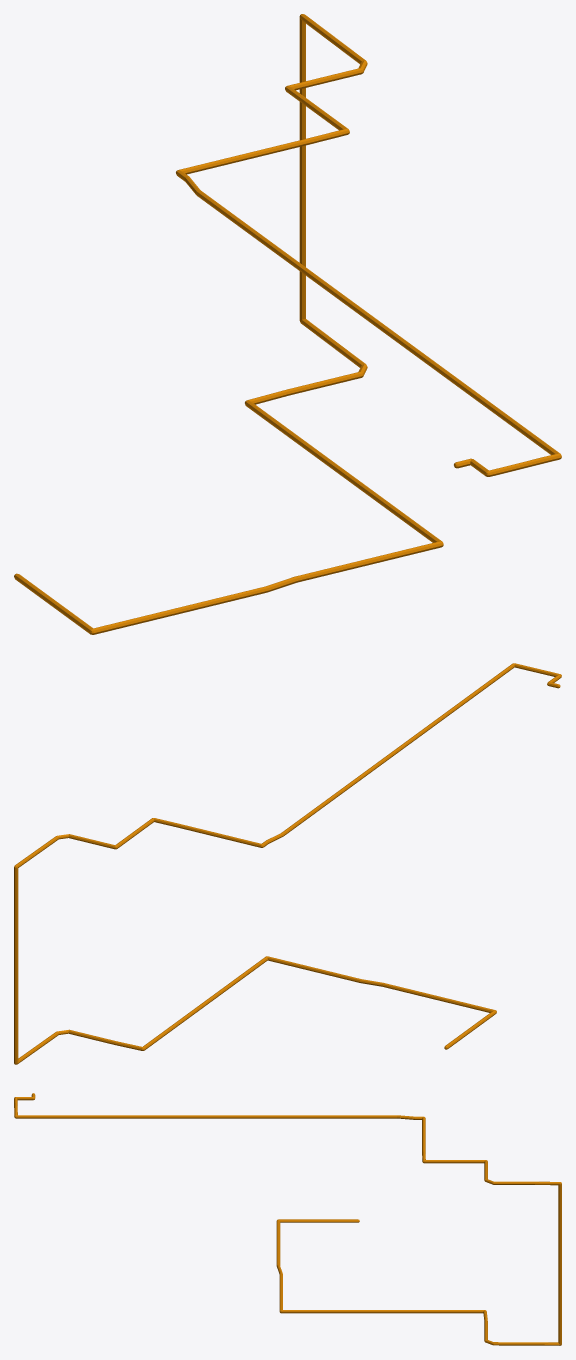
The picture shows the model from 3 angles, top to bottom: view 1: azimuth 30°, elevation 25°; view 2: azimuth 150°, elevation 25°; view 3: azimuth 270°, elevation 25°; orthographic projection. The views are drawn at different scales.
Size of the model in its own units: 1663 by 1020 by 3092.
